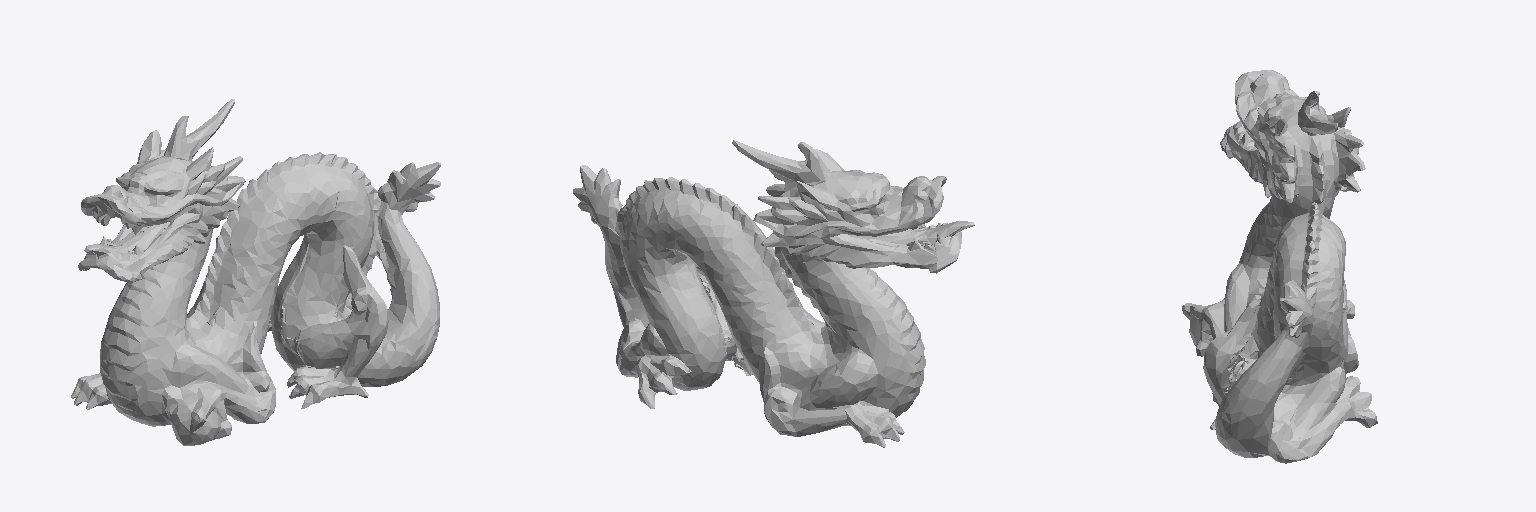
The model's file is StanfordDragon_med.obj.
3 views of the same model, side by side, from view 1: azimuth 30°, elevation 25°; view 2: azimuth 150°, elevation 25°; view 3: azimuth 270°, elevation 25° (orthographic).
Parts seen in each view (by area): view 1: default; view 2: default; view 3: default.
Part boxes in pixels (bbox=[...]): default: bbox=[71, 99, 440, 445]; default: bbox=[573, 140, 974, 447]; default: bbox=[1182, 70, 1377, 463].
Bounding box in the file's own units: 14.1 × 9.92 × 6.31.